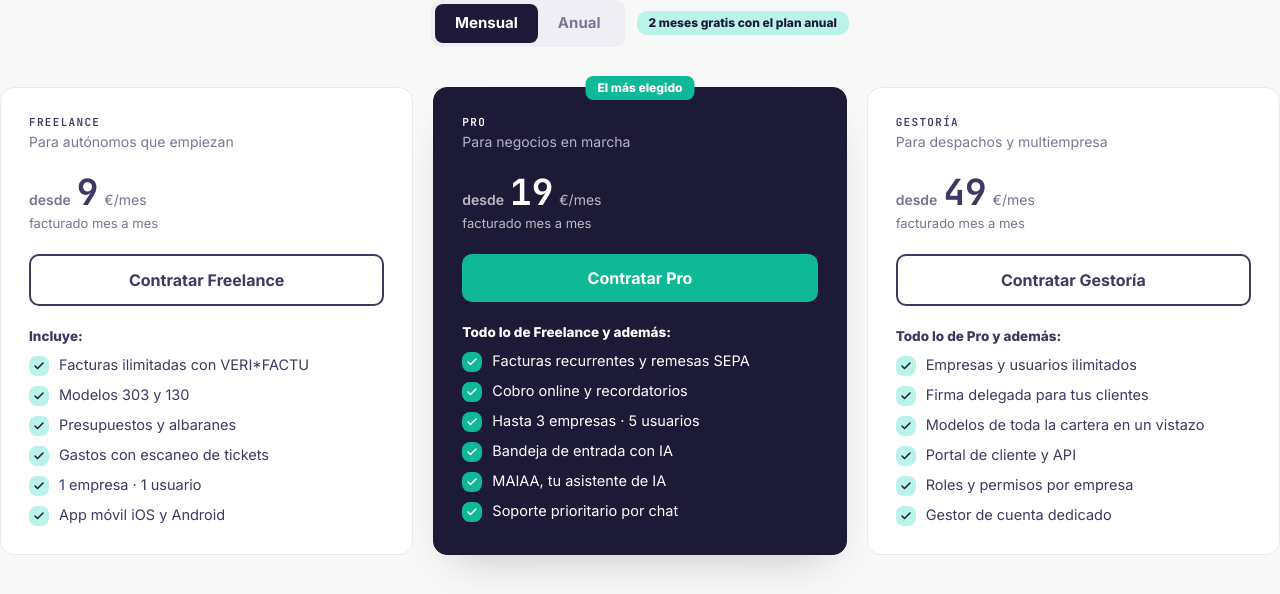
Test case: PricingCards › shows monthly prices by default and annual after toggling
The image size is (1280, 594).
Expected: the text with test id "price-pro" reads "19", [510,168,553,216]
Expected: the text "facturado mes a mes" is shown 3 times, [29,215,158,231]; [462,215,592,231]; [896,215,1025,231]
Click the button "Anual" at x=579, y=23, box [538,4,620,42]
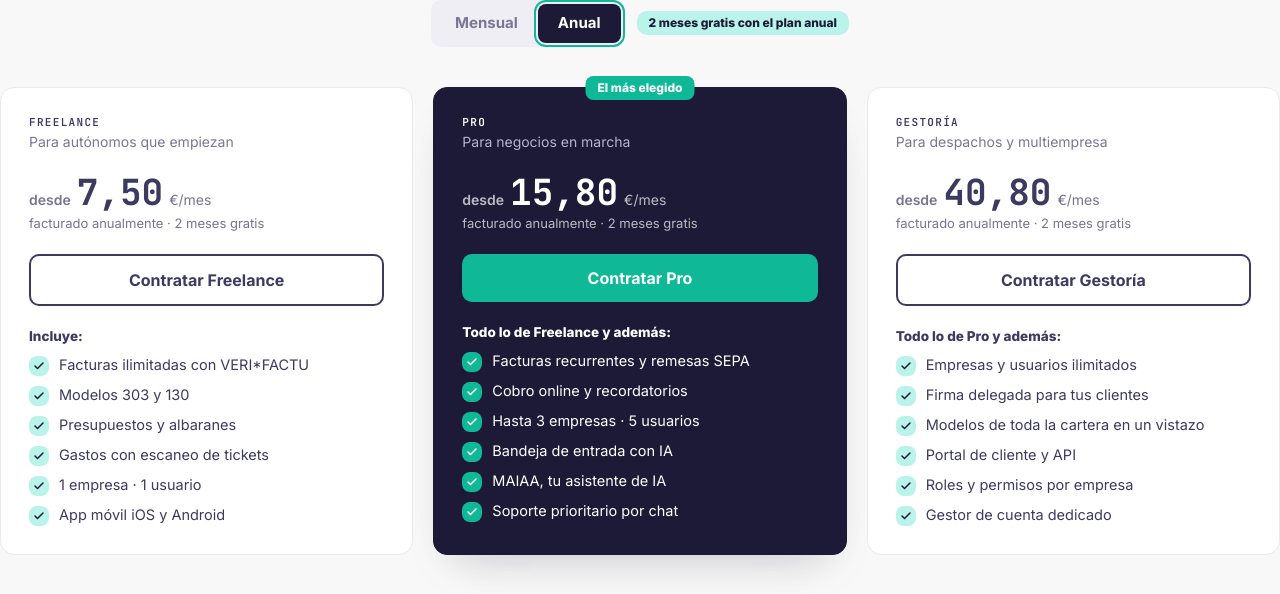
Expected: the text "facturado anualmente · 2 meses gratis" is shown 3 times, [29,215,264,231]; [462,215,698,231]; [896,215,1131,231]
Now the text with test id "price-pro" reads "15,80", box [510,168,618,216]
